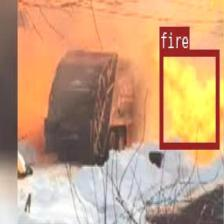fire: (159, 49, 218, 148)
